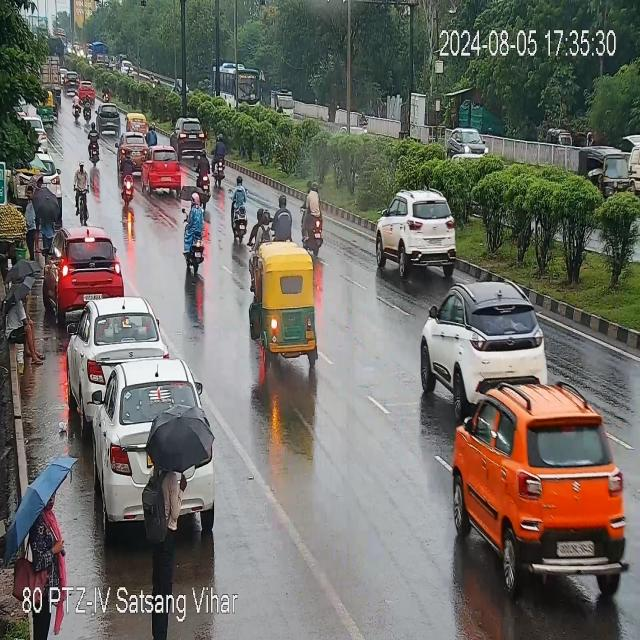2-wheelers: (180, 195, 211, 273), (299, 184, 328, 256), (227, 179, 252, 243), (193, 149, 215, 202), (116, 154, 137, 206), (272, 198, 294, 244), (212, 136, 232, 182), (85, 129, 106, 161), (359, 108, 369, 133)
auto: (250, 241, 320, 359), (577, 140, 635, 190), (44, 80, 63, 119), (126, 112, 149, 136)
bus: (212, 62, 262, 114)
car: (456, 377, 636, 592), (81, 361, 218, 535), (415, 283, 542, 406), (69, 297, 163, 386), (377, 191, 469, 275), (44, 224, 128, 302), (444, 123, 496, 170), (142, 149, 182, 196), (174, 119, 208, 154), (90, 105, 124, 134), (118, 136, 148, 156), (70, 89, 81, 122)
pedestrian: (144, 445, 196, 581), (17, 493, 64, 590), (5, 278, 41, 358), (31, 176, 58, 256), (73, 160, 94, 228)
truck: (38, 54, 66, 101), (271, 88, 294, 121), (92, 41, 110, 72)
